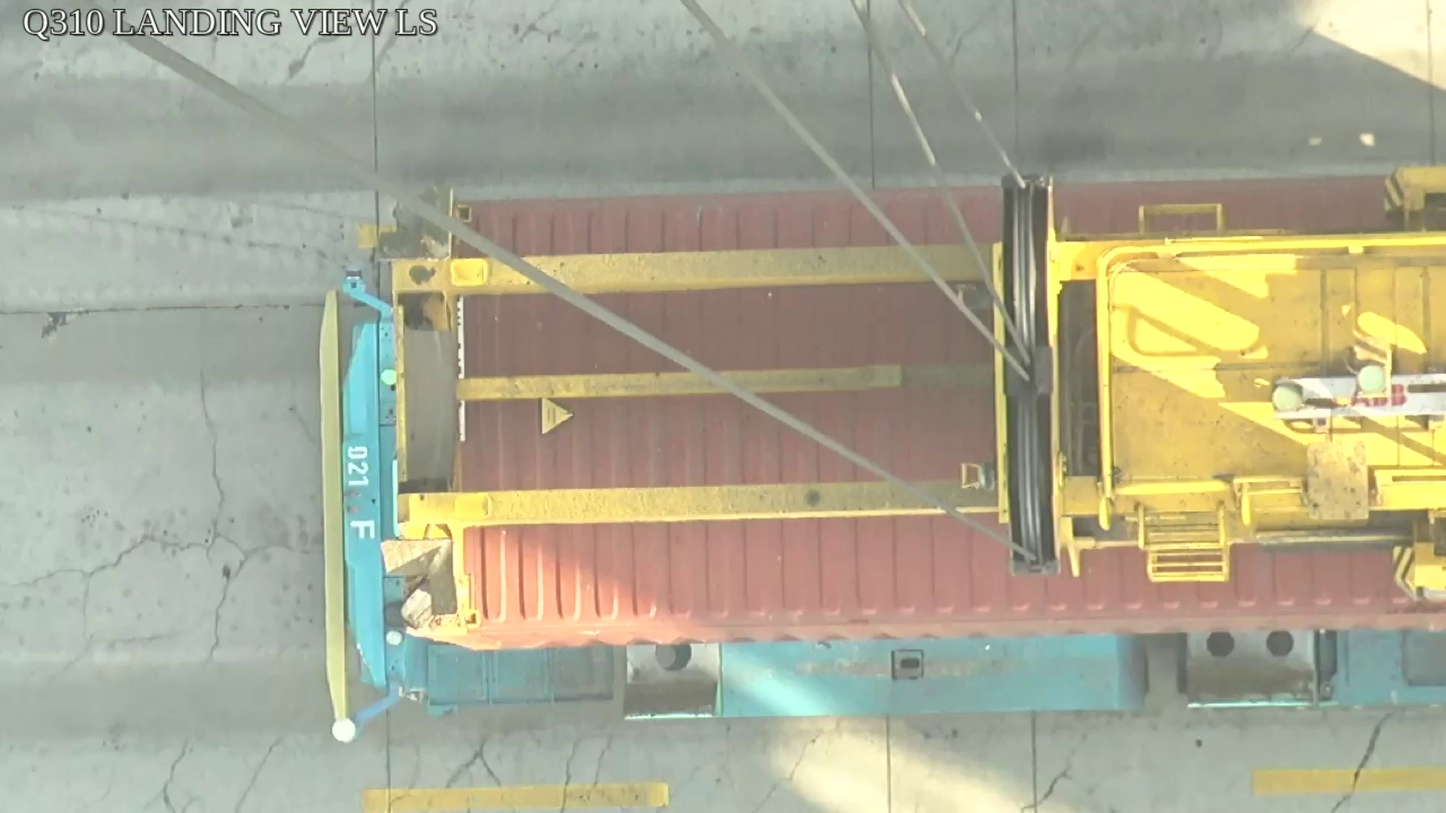aa: (993, 175, 1066, 579)
